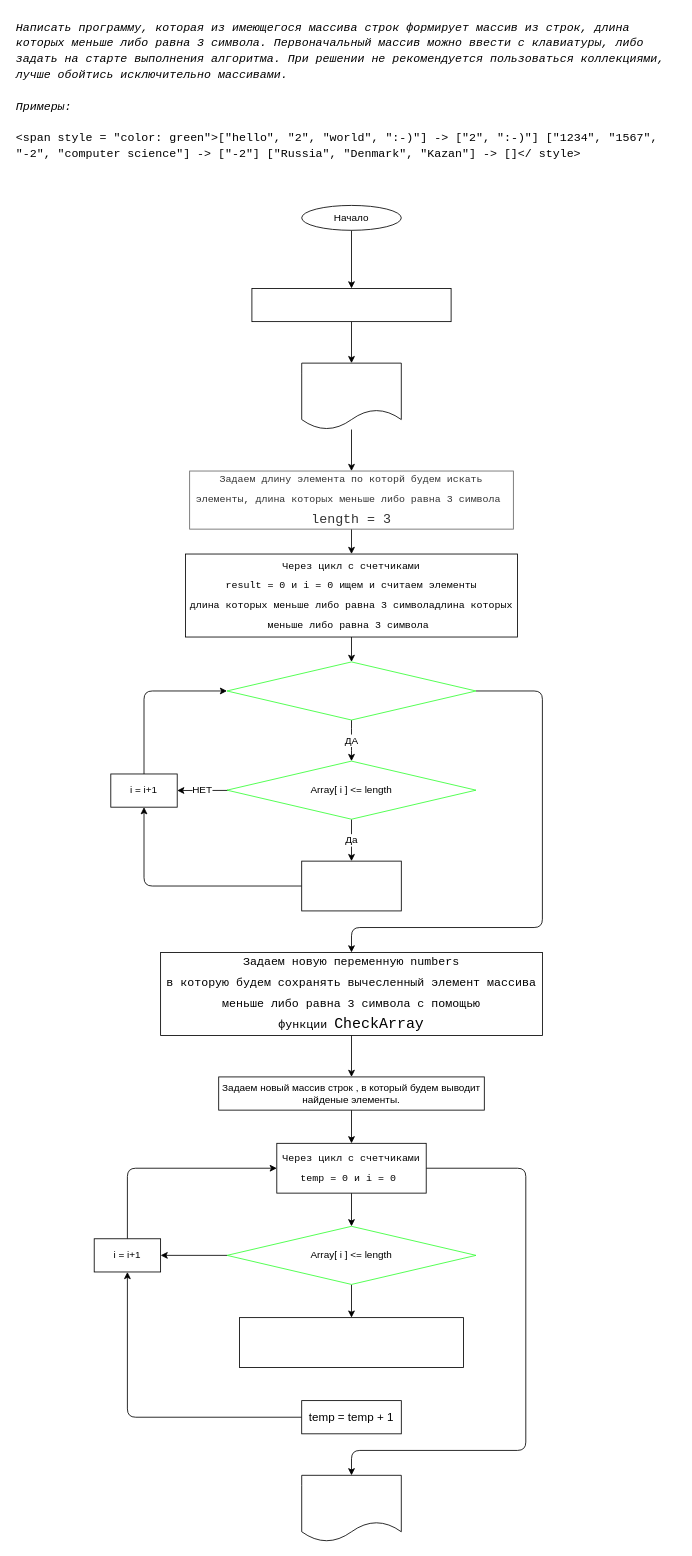
Some shapes in this 692 by 1556 pixel diagram are drawn without their labels. Here are the shapes that lost their labels. From the top down, the centre of each, then its label:
At point (351, 305): "Создаем массив из строк , путем ручного ввода каждого элемента массива".
At point (351, 396): "Array".
At point (351, 690): "Условие пока i < длина массива Array".
At point (351, 885): "result = result +1".
At point (351, 1342): "NewArray[temp] = array[i]".
At point (351, 1508): "NewArray".
